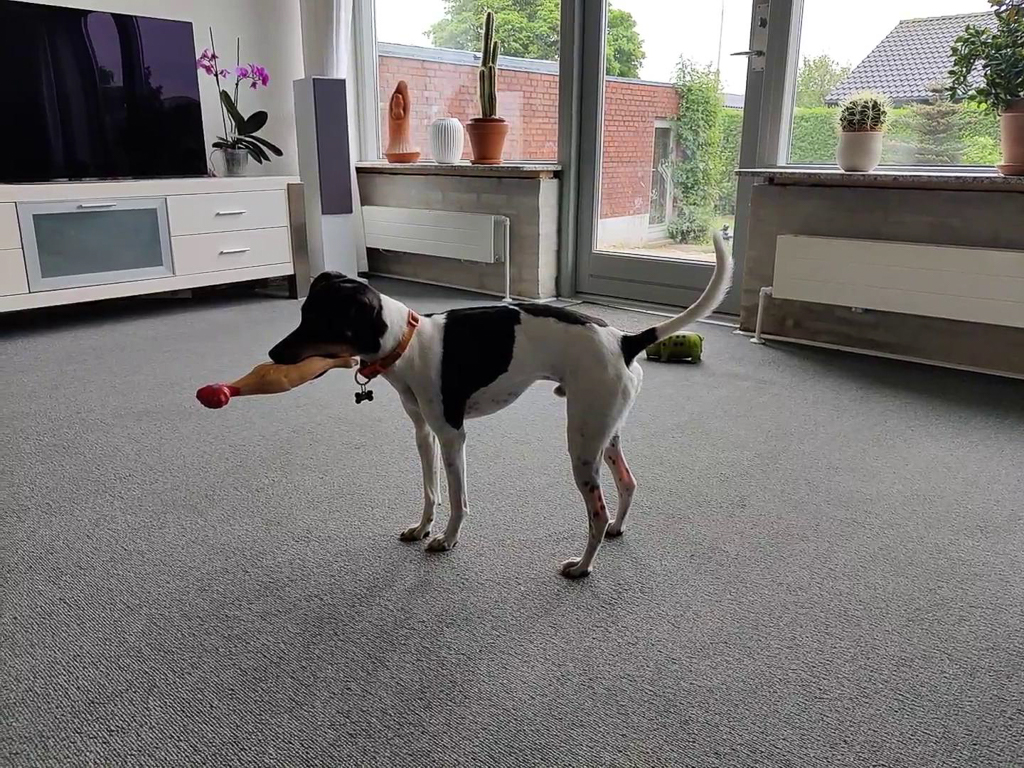Dog: (232, 217, 744, 600)
Humanoid: (375, 72, 429, 156), (717, 222, 737, 245)
